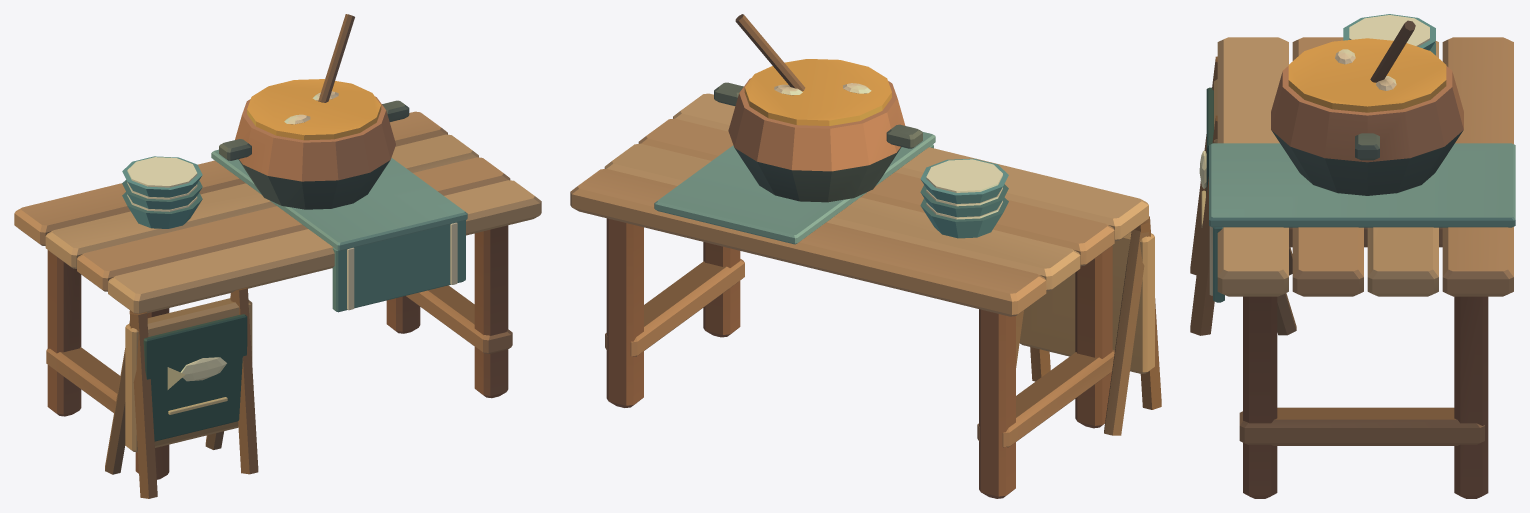
Rendered from broth_cart.glb.
3 renders of one model, left to right at view 1: azimuth 30°, elevation 25°; view 2: azimuth 150°, elevation 25°; view 3: azimuth 270°, elevation 25°, orthographic. The views are drawn at different scales.
Parts seen in each view (by area): view 1: Bos Suppenkarren; view 2: Bos Suppenkarren; view 3: Bos Suppenkarren.
Part boxes in pixels (bbox=[...]): Bos Suppenkarren: bbox=[14, 14, 541, 498]; Bos Suppenkarren: bbox=[570, 14, 1161, 498]; Bos Suppenkarren: bbox=[1190, 14, 1515, 498].
Size of the model in its own units: 1.68 by 1.38 by 0.9551.
